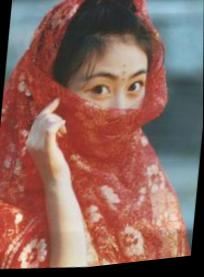WRONG: (70, 55, 150, 169)
